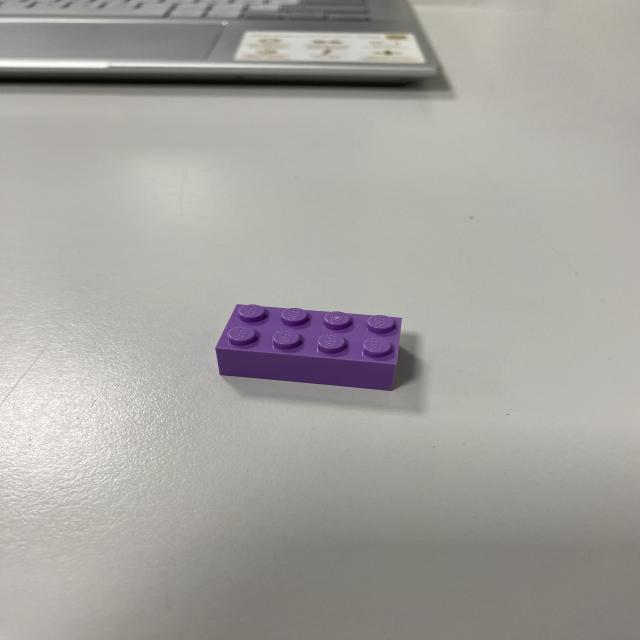C4x2x1: (217, 302, 404, 389)
